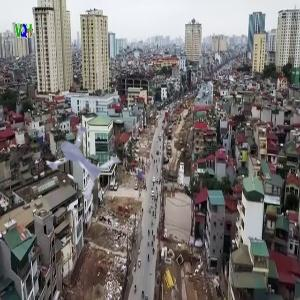drone: (32, 112, 122, 202)
